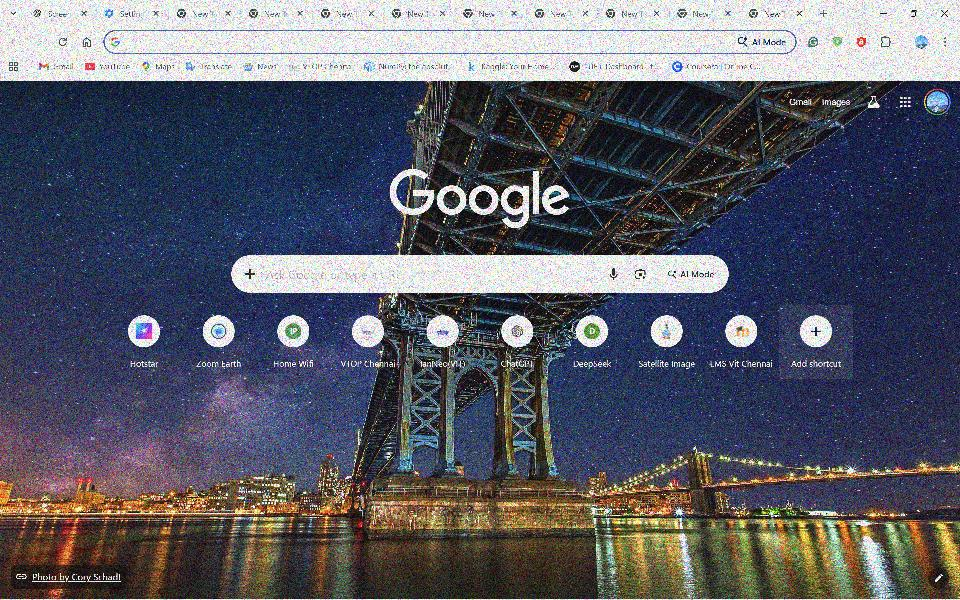close_button: (932, 4, 957, 22)
maximize_button: (902, 3, 926, 24)
minimize_button: (873, 3, 895, 24)
